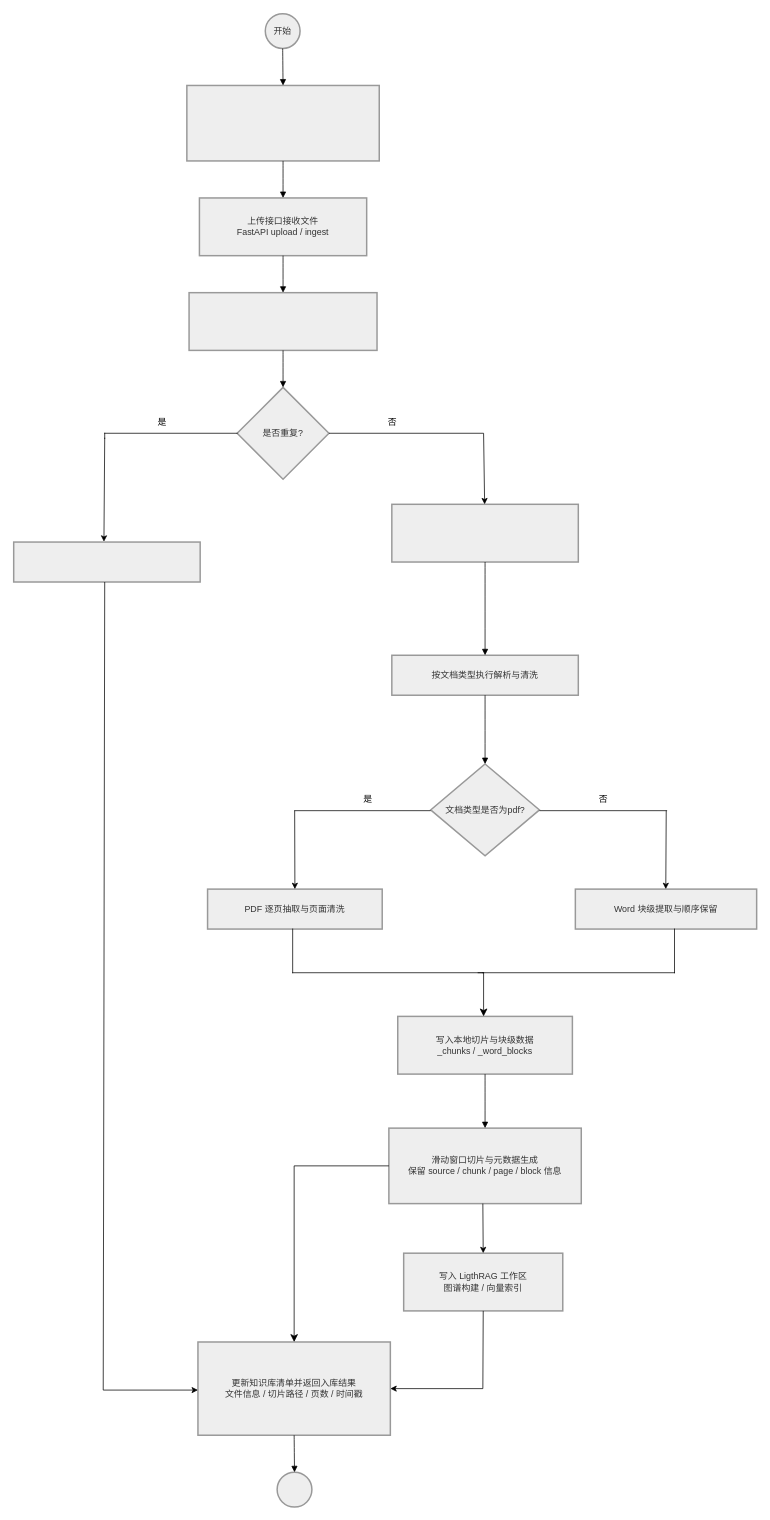
The diagram is 770 pixels wide and 1520 high, and some of its shapes have lost their labels. Here are the shapes that lost their labels. From the top down, the box of each, then its label:
(186, 84, 380, 161): 用户上传文献 PDF / TXT / MD / DOC / DOCX
(188, 292, 377, 351): 格式校验与哈希去重 扩展名检查 / SHA-256 比对
(391, 503, 579, 562): 生成安全文件名并本地保存 写入 uploads 目录
(13, 541, 201, 582): 重复文件直接返回已有记录
(276, 1471, 312, 1507): 结束
